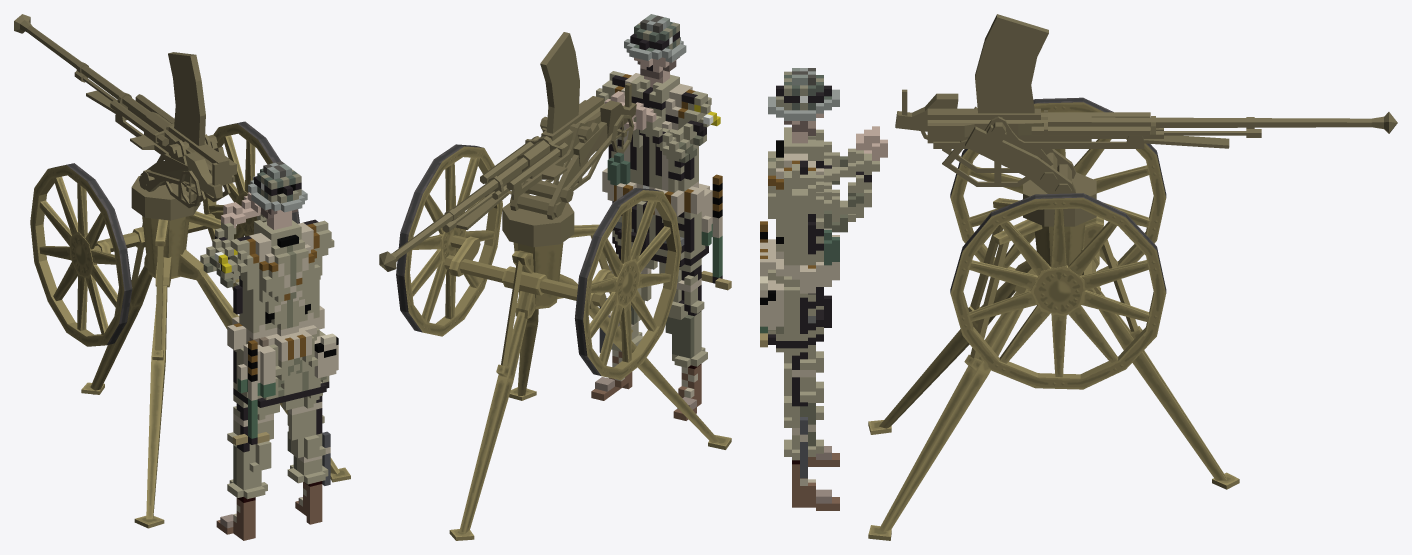
Rendered from type98.glb.
The picture shows the model from 3 angles, left to right: view 1: azimuth 30°, elevation 25°; view 2: azimuth 150°, elevation 25°; view 3: azimuth 270°, elevation 25°; orthographic projection. The views are drawn at different scales.
Visible parts, largest first — view 1: crew_soldier_SLOT_00_GUNNER, 00_chassis_type98_base.mesh, weapon_turret_0_type98_turret.mesh; view 2: 00_chassis_type98_base.mesh, crew_soldier_SLOT_00_GUNNER, weapon_turret_0_type98_turret.mesh; view 3: 00_chassis_type98_base.mesh, crew_soldier_SLOT_00_GUNNER, weapon_turret_0_type98_turret.mesh.
Part boxes in pixels (x1,y1,x2,y2): crew_soldier_SLOT_00_GUNNER: [200, 161, 338, 540]; 00_chassis_type98_base.mesh: [30, 121, 350, 528]; weapon_turret_0_type98_turret.mesh: [14, 14, 236, 220]; 00_chassis_type98_base.mesh: [396, 144, 731, 540]; crew_soldier_SLOT_00_GUNNER: [591, 14, 731, 420]; weapon_turret_0_type98_turret.mesh: [379, 32, 636, 271]; 00_chassis_type98_base.mesh: [868, 97, 1239, 540]; crew_soldier_SLOT_00_GUNNER: [760, 68, 887, 510]; weapon_turret_0_type98_turret.mesh: [895, 14, 1397, 226].
Size of the model in its own units: 1.09 by 2.03 by 2.49.
37 materials, 2 textured.
